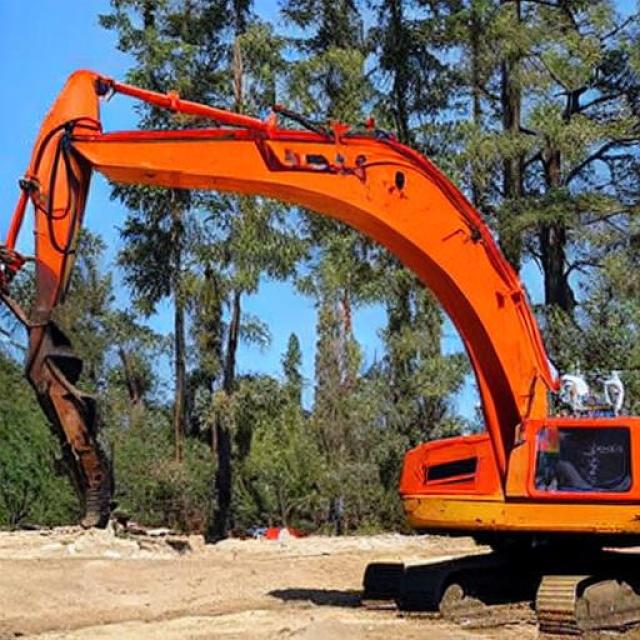excavator: (292, 266, 384, 319)
